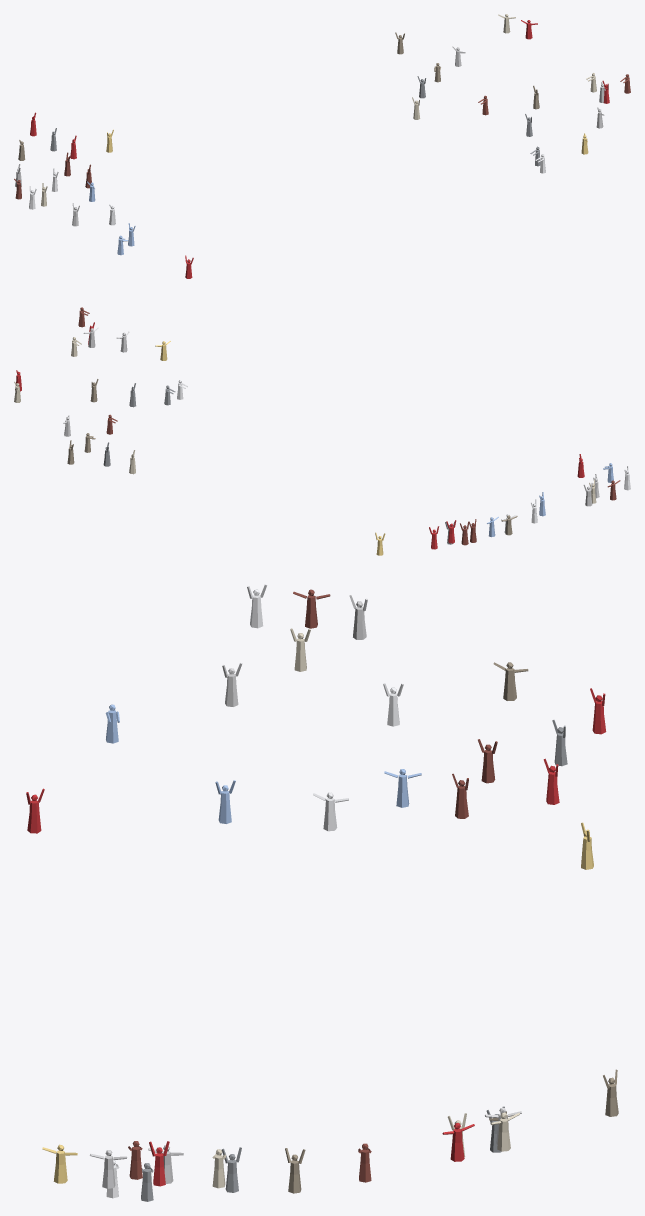
File: Guests2.obj
3 views of the same model, one above another, from view 1: azimuth 30°, elevation 25°; view 2: azimuth 150°, elevation 25°; view 3: azimuth 270°, elevation 25° (orthographic). The views are drawn at different scales.
Visible parts, largest first — view 1: Guests2; view 2: Guests2; view 3: Guests2.
Part boxes in pixels (left/top/right/bottom): Guests2: left=14, top=14, right=630, bottom=278; Guests2: left=14, top=307, right=630, bottom=555; Guests2: left=26, top=584, right=618, bottom=1201.
Bounding box in the file's own units: 81.17 × 10.05 × 36.46.
1 material, 1 textured.
